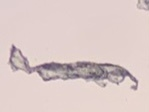microplastic: (7, 43, 139, 92)
